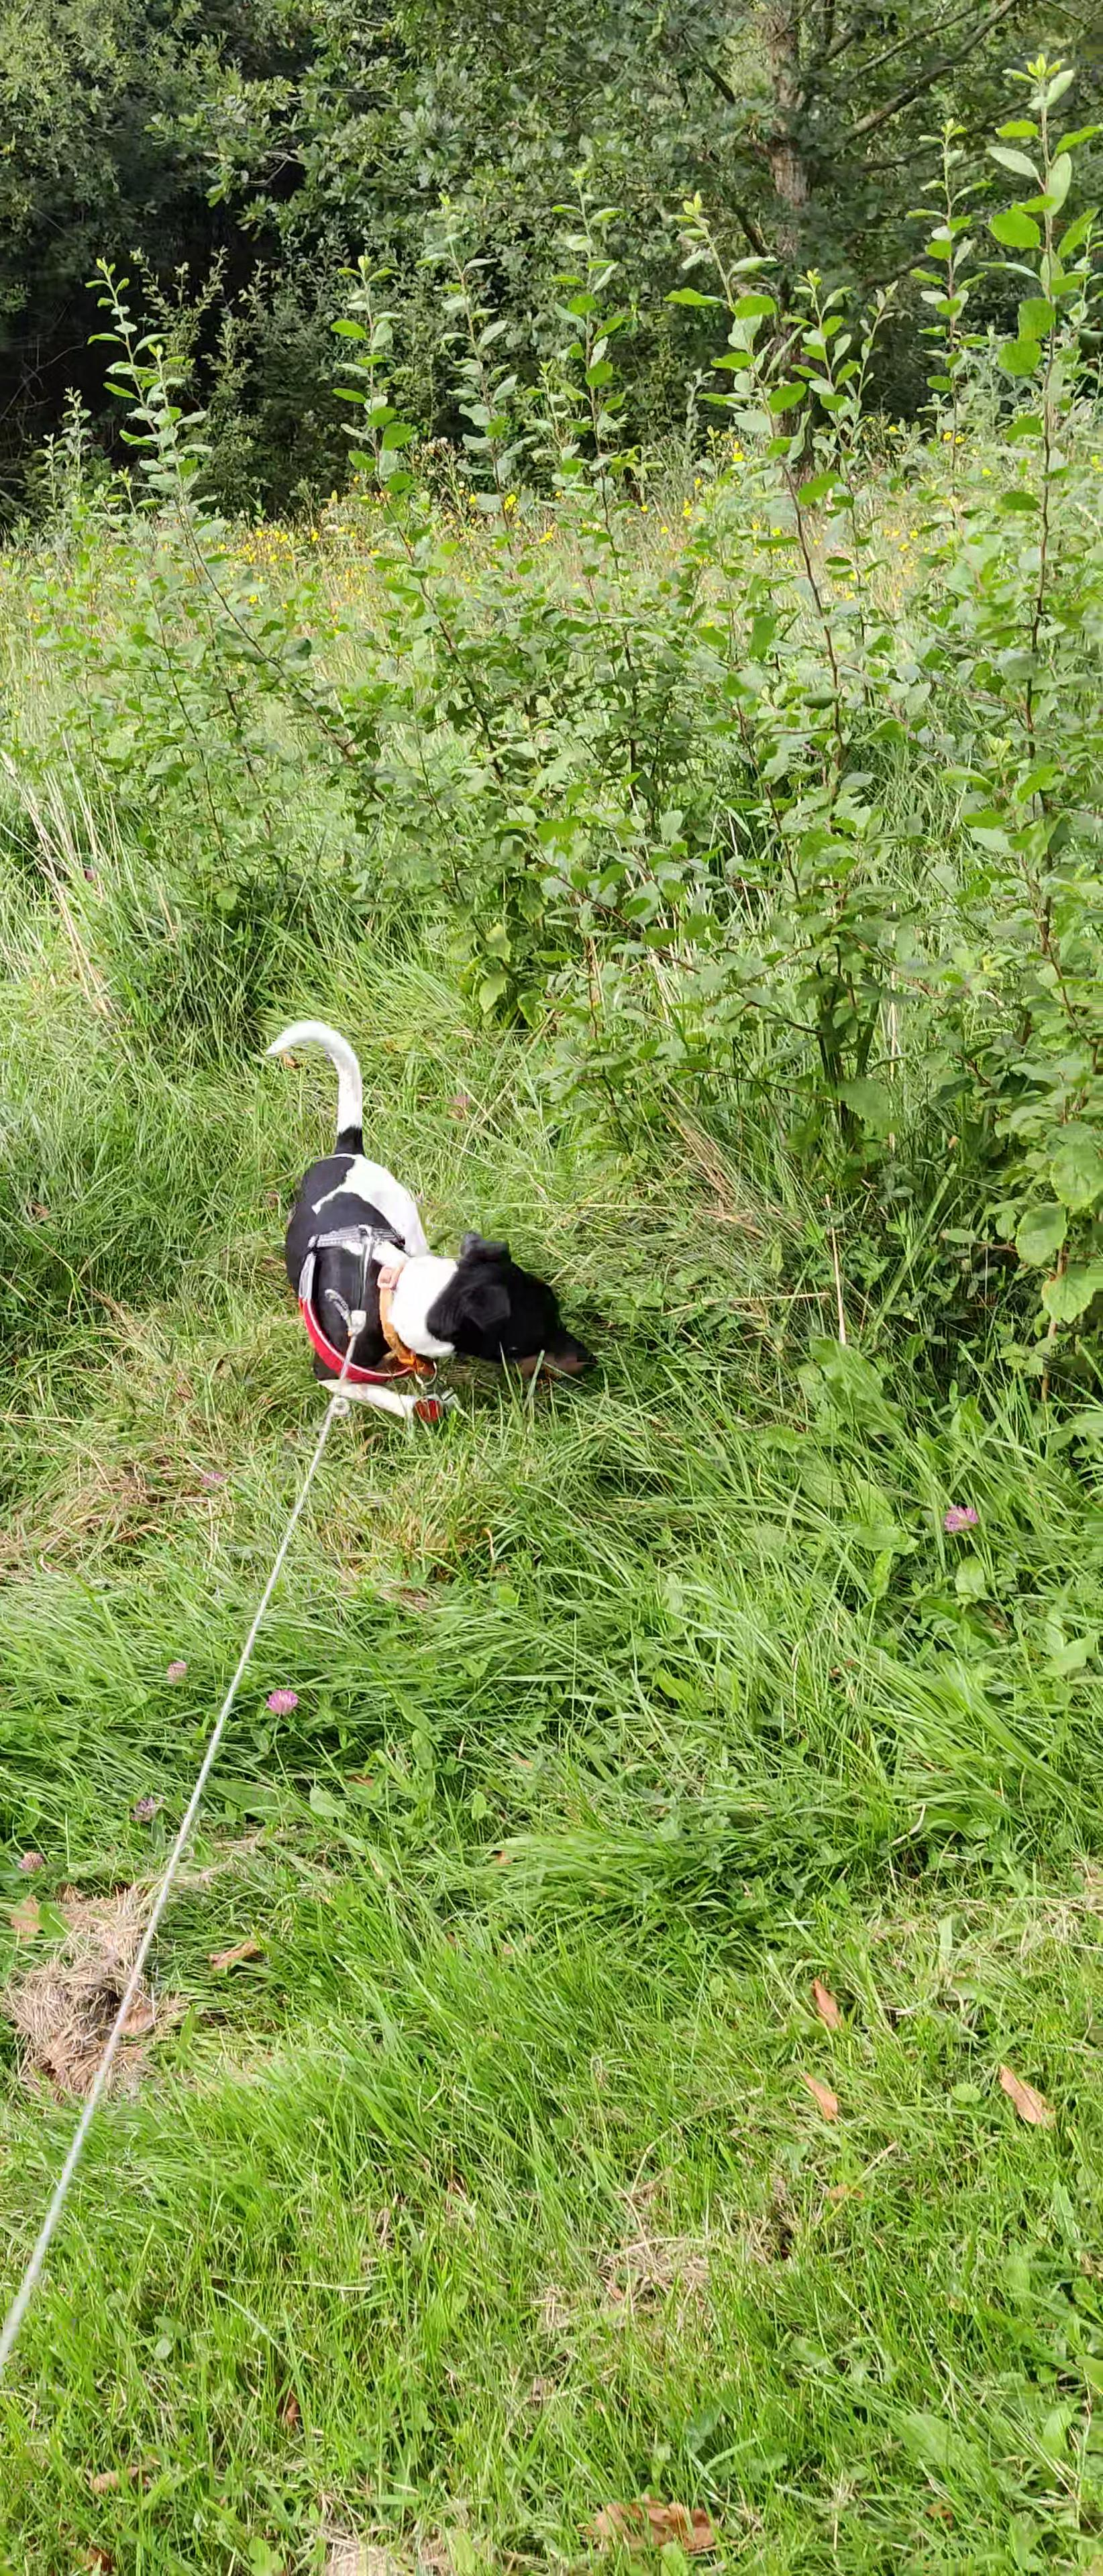Dog: (240, 1005, 608, 1437)
